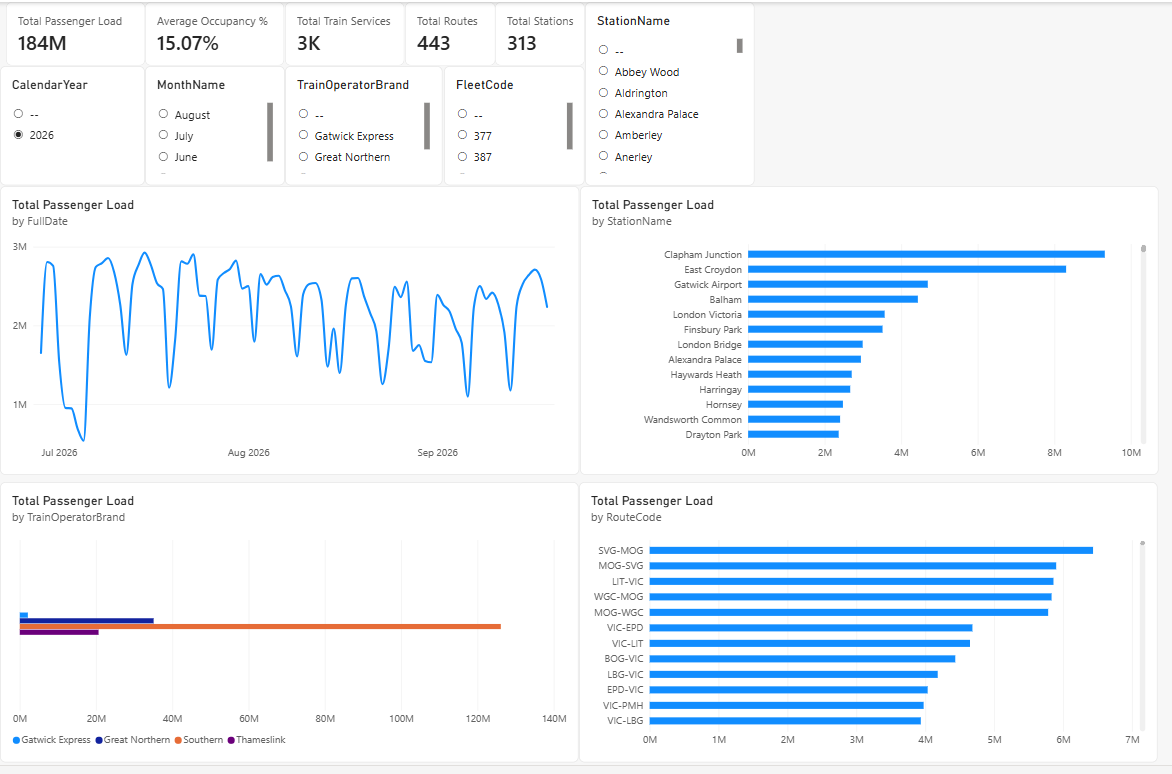

The page's visual inventory and layout, read from the dashboard file:
{"tool":"powerbi","page":{"name":"Page 1","canvas":[1920,1080],"ordinal":0},"visuals":[{"type":"cardVisual","title":"Passenger Load","fields":{"Data":["FactPassengerLoad.Total Passenger Load"]},"box":[9.4,0,197.6,91],"z":0},{"type":"cardVisual","fields":{"Data":["FactPassengerLoad.Average Occupancy %"]},"box":[207.1,0,197.6,91],"z":1},{"type":"cardVisual","fields":{"Data":["FactPassengerLoad.Total Train Services"]},"box":[404.7,0,169.4,91],"z":2},{"type":"cardVisual","fields":{"Data":["FactPassengerLoad.Total Routes"]},"box":[574.1,0,128.6,91],"z":3},{"type":"cardVisual","fields":{"Data":["FactPassengerLoad.Total Stations"]},"box":[702.7,0,127.1,91],"z":4},{"type":"lineChart","fields":{"Category":["DimDate.FullDate"],"Y":["FactPassengerLoad.Total Passenger Load"]},"box":[1.6,260.4,820.4,409.4],"z":5},{"type":"clusteredBarChart","fields":{"Series":["DimOperator.TrainOperatorBrand"],"Y":["FactPassengerLoad.Total Passenger Load"]},"box":[1.6,679.2,818.8,396.9],"z":6},{"type":"clusteredBarChart","fields":{"Category":["DimStation.StationName"],"Y":["FactPassengerLoad.Total Passenger Load"]},"box":[822,260.4,818.8,409.4],"z":7},{"type":"clusteredBarChart","fields":{"Category":["DimRoute.RouteCode"],"Y":["FactPassengerLoad.Total Passenger Load"]},"box":[820.4,679.2,818.8,396.9],"z":8},{"type":"listSlicer","fields":{"Values":["DimDate.CalendarYear"]},"box":[1.6,91,205.5,169.4],"z":9},{"type":"listSlicer","fields":{"Values":["DimDate.MonthName"]},"box":[207,91,198,169],"z":10},{"type":"listSlicer","fields":{"Values":["DimOperator.TrainOperatorBrand"]},"box":[404.7,91,222.7,169.4],"z":11},{"type":"listSlicer","fields":{"Values":["DimFleet.FleetCode"]},"box":[630.6,91,199.2,169.4],"z":12},{"type":"listSlicer","fields":{"Values":["DimStation.StationName"]},"box":[829.8,0,240,260.4],"z":13}]}

Visuals, with their boxes on the page's 1920x1080 design canvas (x1, y1, x2, y2). These are canvas units, not pixel positions in the 1172x774 screenshot, which may show the page scaled, cropped or inside an application window:
"Passenger Load" cardVisual: select_region(9, 0, 207, 91)
cardVisual - FactPassengerLoad.Average Occupancy %: select_region(207, 0, 405, 91)
cardVisual - FactPassengerLoad.Total Train Services: select_region(405, 0, 574, 91)
cardVisual - FactPassengerLoad.Total Routes: select_region(574, 0, 703, 91)
cardVisual - FactPassengerLoad.Total Stations: select_region(703, 0, 830, 91)
lineChart - DimDate.FullDate x FactPassengerLoad.Total Passenger Load: select_region(2, 260, 822, 670)
clusteredBarChart - DimOperator.TrainOperatorBrand x FactPassengerLoad.Total Passenger Load: select_region(2, 679, 820, 1076)
clusteredBarChart - DimStation.StationName x FactPassengerLoad.Total Passenger Load: select_region(822, 260, 1641, 670)
clusteredBarChart - DimRoute.RouteCode x FactPassengerLoad.Total Passenger Load: select_region(820, 679, 1639, 1076)
listSlicer - DimDate.CalendarYear: select_region(2, 91, 207, 260)
listSlicer - DimDate.MonthName: select_region(207, 91, 405, 260)
listSlicer - DimOperator.TrainOperatorBrand: select_region(405, 91, 627, 260)
listSlicer - DimFleet.FleetCode: select_region(631, 91, 830, 260)
listSlicer - DimStation.StationName: select_region(830, 0, 1070, 260)
